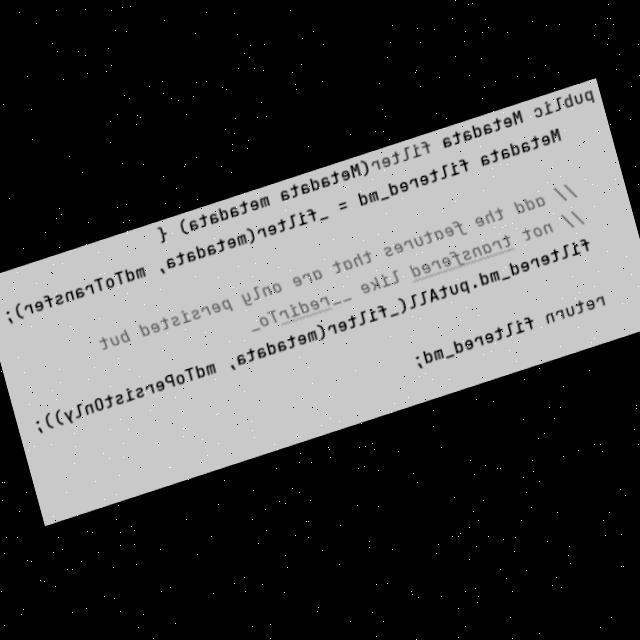code_screen: (0, 76, 640, 523)
